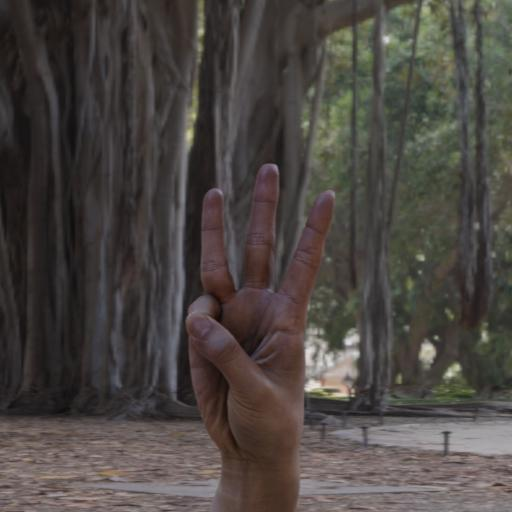W: (174, 155, 339, 454)
